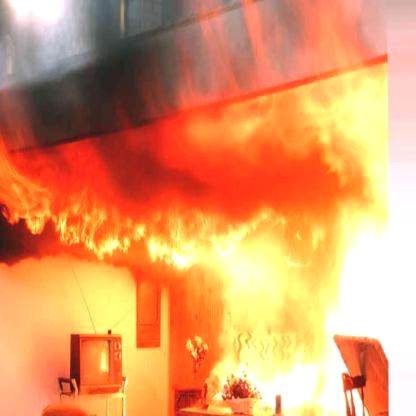fire: (10, 45, 393, 381)
